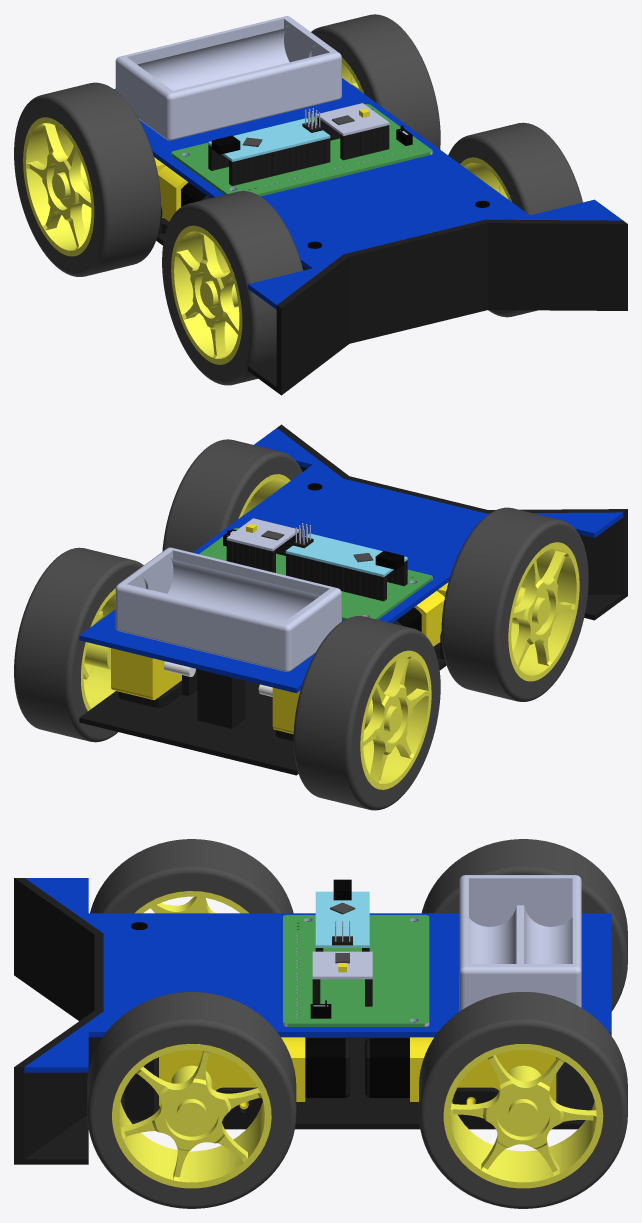
The model's file is FUTBOLISTA PRO.fbx.
3 views of the same model, one above another, from view 1: azimuth 30°, elevation 25°; view 2: azimuth 150°, elevation 25°; view 3: azimuth 270°, elevation 25° (orthographic). The views are drawn at different scales.
Visible parts, largest first — view 1: black satin finish plastic, blue satin finish plastic, color, matte rubber.3, matte rubber.4, matte rubber, yellow low gloss plastic-2.3, yellow low gloss plastic-2.4, matte rubber.2, green medium gloss plastic, black low gloss plastic, blue low gloss plastic (+4 smaller); view 2: blue satin finish plastic, color, black satin finish plastic, matte rubber.4, matte rubber.3, matte rubber, matte rubber.2, yellow low gloss plastic-2.4, yellow low gloss plastic-2.3, black low gloss plastic, yellow low gloss plastic.2, green medium gloss plastic (+7 smaller); view 3: blue satin finish plastic, black satin finish plastic, matte rubber.2, matte rubber, color, yellow low gloss plastic-2, yellow low gloss plastic-2.2, green medium gloss plastic, matte rubber.4, matte rubber.3, yellow low gloss plastic, yellow low gloss plastic.2 (+5 smaller).
Part boxes in pixels (<box>): black satin finish plastic: <box>156,207,627,395</box>; blue satin finish plastic: <box>114,78,622,309</box>; color: <box>115,16,341,140</box>; matte rubber.3: <box>14,82,161,276</box>; matte rubber.4: <box>162,191,303,385</box>; matte rubber: <box>311,14,440,149</box>; yellow low gloss plastic-2.3: <box>23,117,94,256</box>; yellow low gloss plastic-2.4: <box>171,225,242,364</box>; matte rubber.2: <box>448,122,582,317</box>; green medium gloss plastic: <box>171,104,432,196</box>; black low gloss plastic: <box>208,138,330,185</box>; blue low gloss plastic: <box>208,118,330,161</box>; blue satin finish plastic: <box>79,428,623,693</box>; color: <box>115,547,341,671</box>; black satin finish plastic: <box>79,424,627,775</box>; matte rubber.4: <box>441,507,588,701</box>; matte rubber.3: <box>293,616,440,810</box>; matte rubber: <box>14,547,143,742</box>; matte rubber.2: <box>162,439,302,552</box>; yellow low gloss plastic-2.4: <box>508,542,579,681</box>; yellow low gloss plastic-2.3: <box>360,650,431,789</box>; black low gloss plastic: <box>286,553,407,601</box>; yellow low gloss plastic.2: <box>111,648,181,700</box>; green medium gloss plastic: <box>199,528,432,620</box>; blue satin finish plastic: <box>24,878,611,1072</box>; black satin finish plastic: <box>14,878,594,1164</box>; matte rubber.2: <box>87,992,296,1208</box>; matte rubber: <box>419,992,627,1208</box>; color: <box>459,875,581,1011</box>; yellow low gloss plastic-2: <box>443,1044,603,1188</box>; yellow low gloss plastic-2.2: <box>112,1044,271,1188</box>; green medium gloss plastic: <box>283,915,429,1026</box>; matte rubber.4: <box>90,839,293,913</box>; matte rubber.3: <box>421,839,627,1011</box>; yellow low gloss plastic: <box>159,1037,305,1109</box>; yellow low gloss plastic.2: <box>410,1037,556,1104</box>.
Size of the model in its own units: 15 by 7.32 by 20.55.
